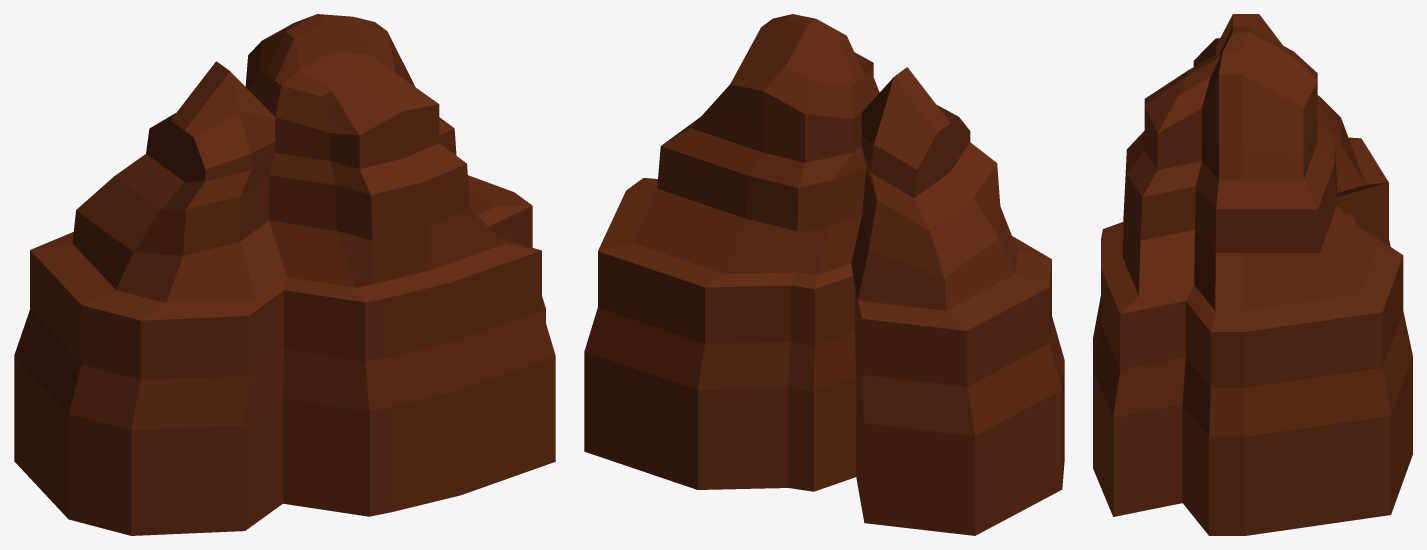
The model's file is Mountain_3.FBX.
3 views of the same model, side by side, from view 1: azimuth 30°, elevation 25°; view 2: azimuth 150°, elevation 25°; view 3: azimuth 270°, elevation 25° (orthographic). The views are drawn at different scales.
Visible parts, largest first — view 1: Mountain_3; view 2: Mountain_3; view 3: Mountain_3.
Part boxes in pixels (x1=…): Mountain_3: x1=14, y1=14, x2=555, y2=535; Mountain_3: x1=584, y1=14, x2=1064, y2=535; Mountain_3: x1=1093, y1=14, x2=1412, y2=535.
Size of the model in its own units: 103 by 91.85 by 65.12.
